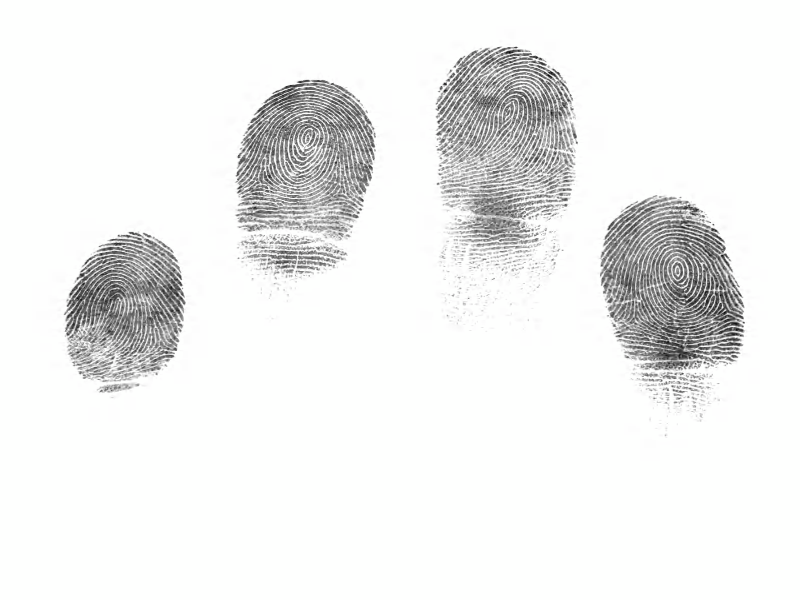distal: (591, 191, 756, 376), (227, 69, 387, 244), (432, 41, 585, 224), (49, 230, 205, 395)
